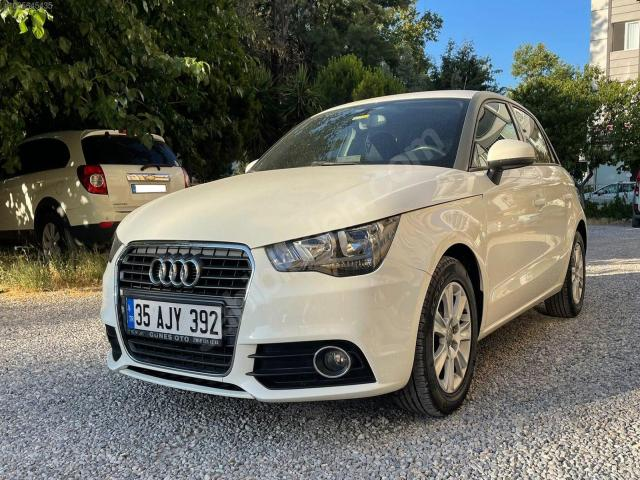plaka: (126, 298, 222, 341)
